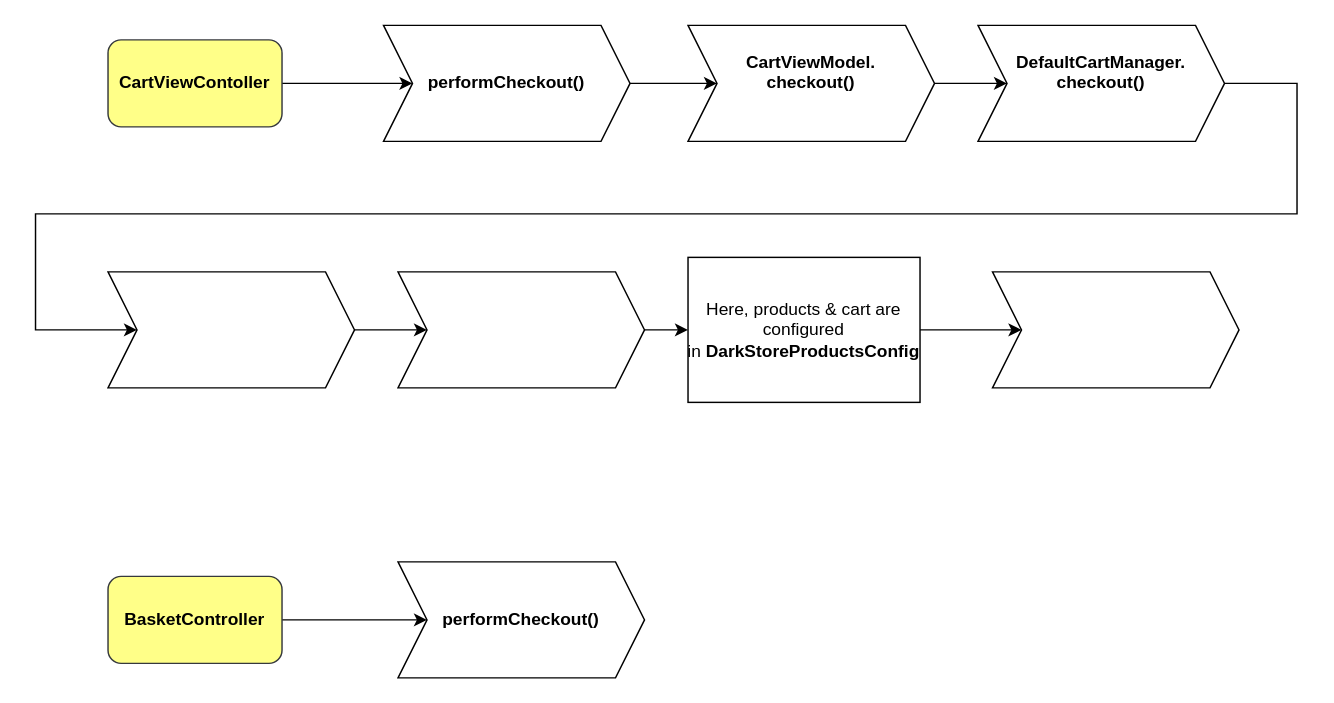
Image size: 1334x703. Some labels were removed from this diagram. The shapes that lost their labels are listed below. From the top down, each one's centre as x and y in pixels, then its label:
At pixel 231 329: "DarkStoreKit. checkoutHandler".
At pixel 521 329: "DarkStoreKit. showCheckoutFor".
At pixel 1115 329: "BasketHandler. addDarkStore ProductsData".
